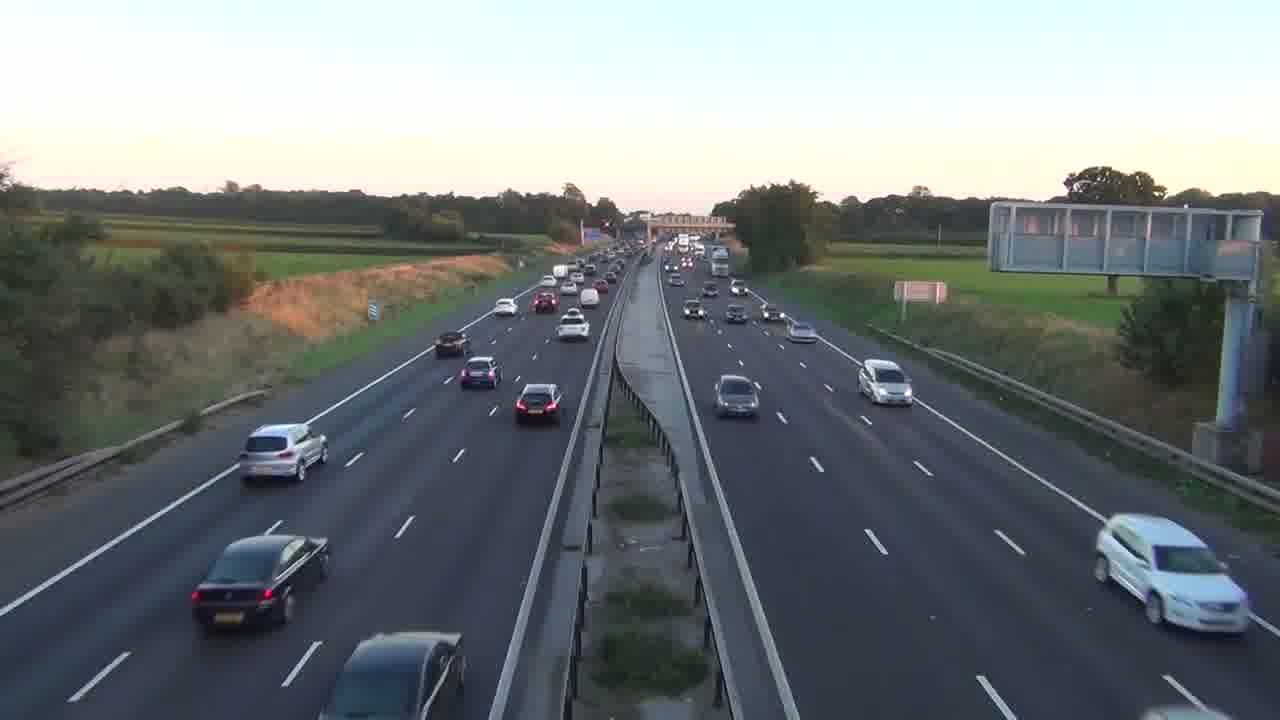car: (1092, 511, 1251, 638), (189, 522, 332, 635), (317, 628, 469, 718), (239, 422, 328, 483), (858, 358, 914, 407), (713, 373, 762, 419), (513, 382, 564, 424), (457, 356, 501, 390), (433, 330, 469, 358)
truck: (189, 522, 332, 635), (858, 358, 914, 407)
